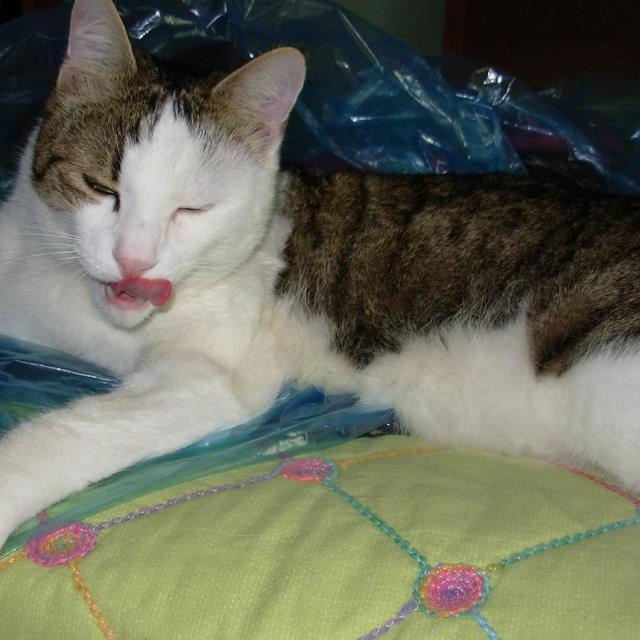animals: (53, 0, 301, 274)
